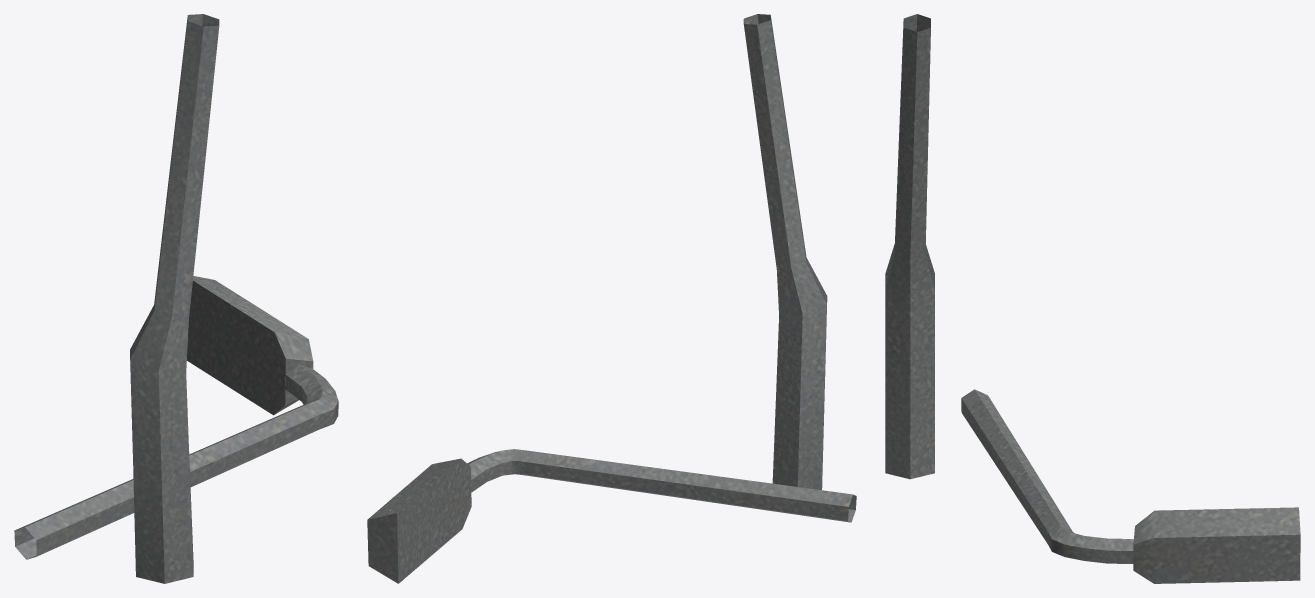
File: lamp3.obj
3 renders of one model, left to right at view 1: azimuth 30°, elevation 25°; view 2: azimuth 150°, elevation 25°; view 3: azimuth 270°, elevation 25°, orthographic. The views are drawn at different scales.
Parts seen in each view (by area): view 1: polySurface10; view 2: polySurface10; view 3: polySurface10.
Boxes of the visible parts, x1,y1,x2,y2 form: polySurface10: (14,14,338,583); polySurface10: (367,14,856,583); polySurface10: (885,14,1300,583).
Bounding box in the file's own units: 2.38 × 3.2 × 2.54.
Materials: 1 (1 with a texture image).
